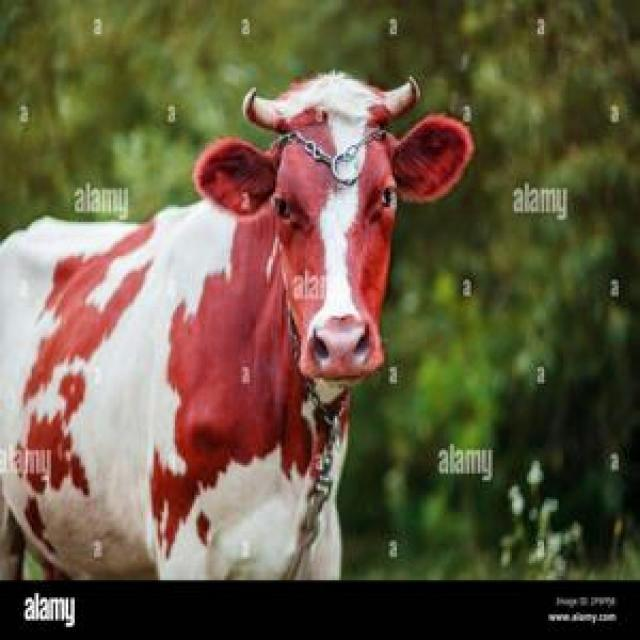cow: (0, 72, 472, 579)
